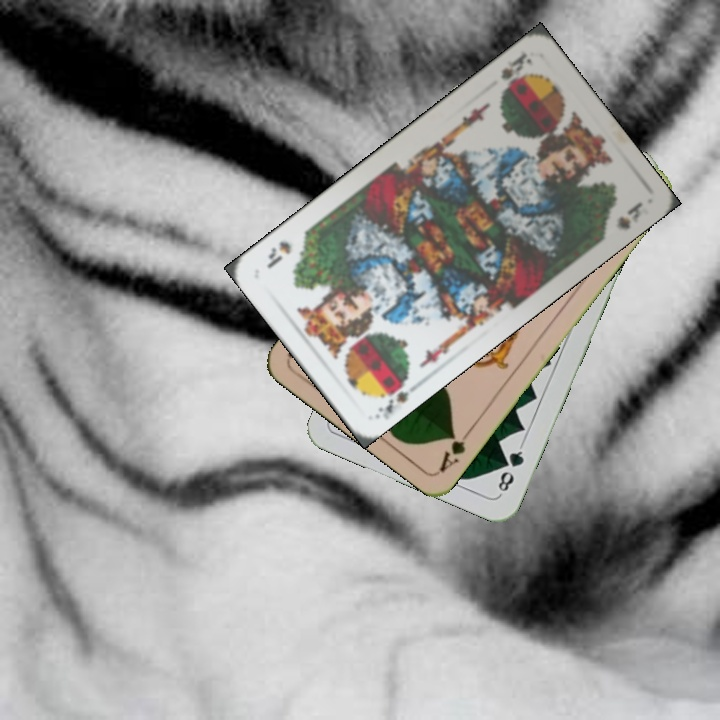G8: (494, 441, 527, 497)
GA: (435, 422, 476, 475)
SK: (371, 370, 422, 421), (497, 47, 536, 96)
